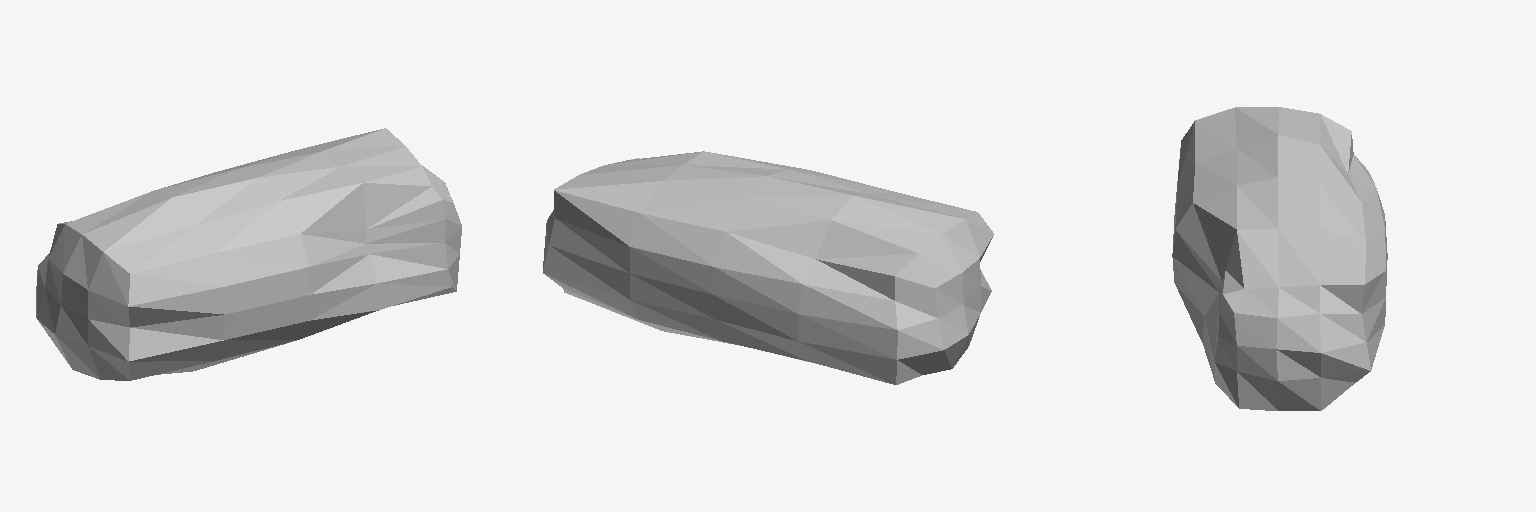
Rendered from LongRock.obj.
3 views of the same model, side by side, from view 1: azimuth 30°, elevation 25°; view 2: azimuth 150°, elevation 25°; view 3: azimuth 270°, elevation 25° (orthographic).
Parts seen in each view (by area): view 1: Cube; view 2: Cube; view 3: Cube.
Boxes of the visible parts, box(x1,y1,x2,y2) form: Cube: box(36, 128, 461, 380); Cube: box(543, 151, 993, 384); Cube: box(1172, 107, 1387, 410).
Bounding box in the file's own units: 5.58 × 2.13 × 2.59.